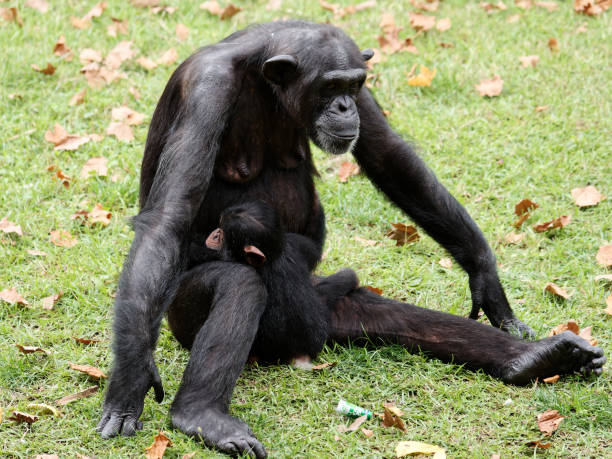chimpanzee: (245, 14, 393, 185)
